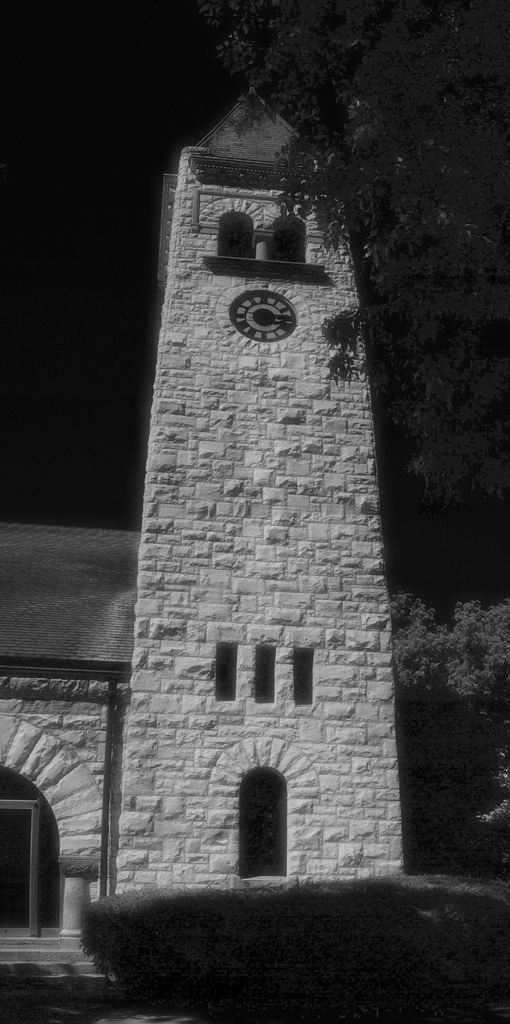Tree: (209, 0, 509, 505), (376, 570, 509, 757)
